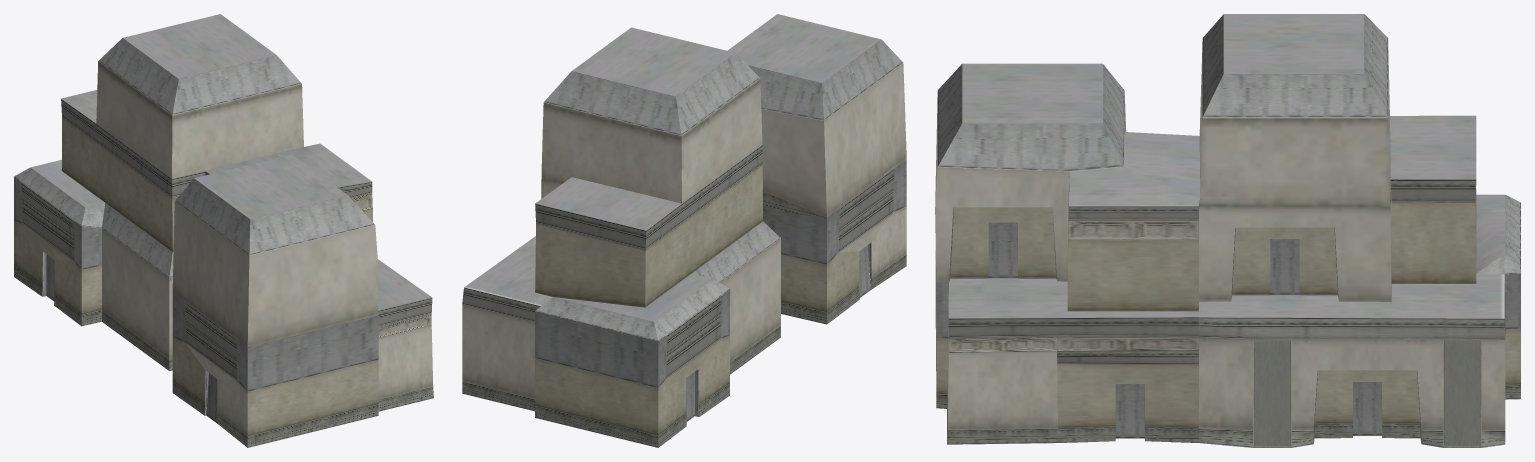
Rendered from thm_corl_imprv_historic_32x16_s02_l3.fbx.
The picture shows the model from 3 angles, left to right: view 1: azimuth 30°, elevation 25°; view 2: azimuth 150°, elevation 25°; view 3: azimuth 270°, elevation 25°; orthographic projection. The views are drawn at different scales.
Parts seen in each view (by area): view 1: mesh_node; view 2: mesh_node; view 3: mesh_node.
Boxes of the visible parts, x1,y1,x2,y2 form: mesh_node: (14,14,433,447); mesh_node: (462,14,906,447); mesh_node: (935,14,1520,447).
Size of the model in its own units: 14.76 by 19.6 by 30.39.
1 material, 1 textured.
